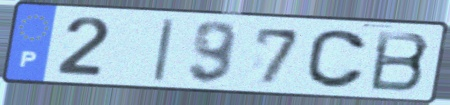2: (54, 15, 115, 80)
7: (252, 26, 302, 85)
9: (186, 19, 237, 87)
B: (367, 28, 433, 94)
C: (303, 27, 370, 91)
I: (150, 16, 178, 84)
